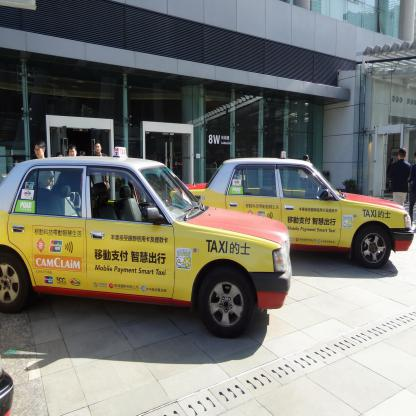taxi: (1, 145, 294, 340), (185, 150, 416, 275)
